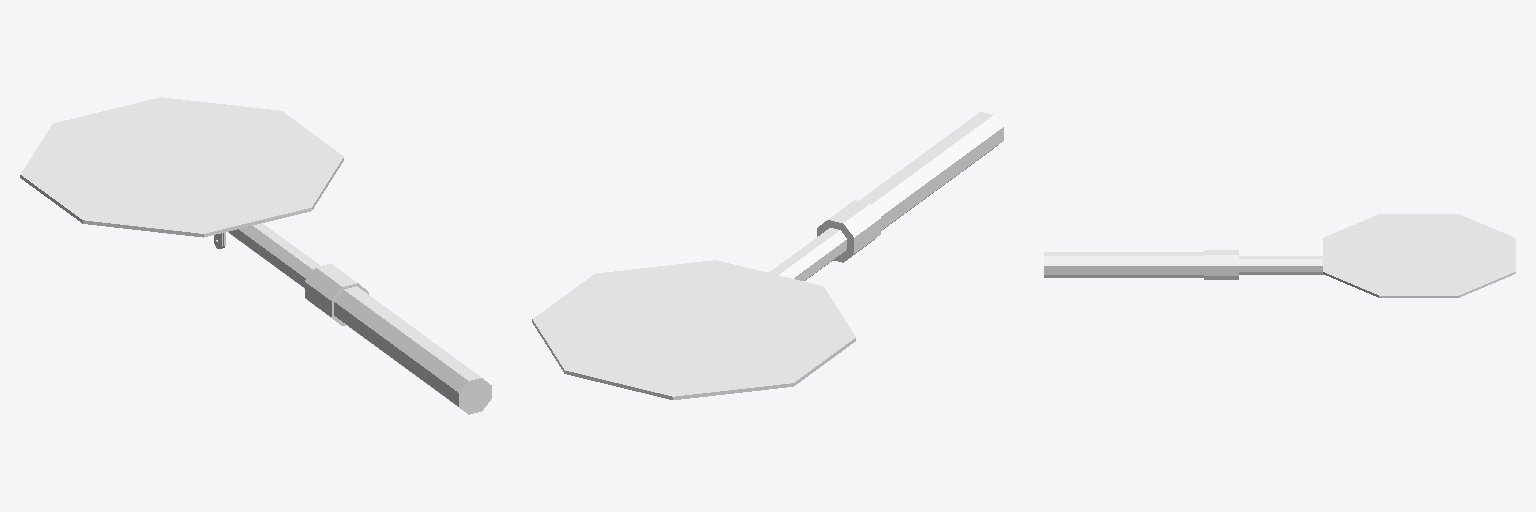
URDF robot description (stopsign):
<?xml version="1.0"?>
<robot name="stopsign">
  <link name="gear">
    <contact>
        <lateral_friction value="1"/>
    </contact>
    <inertial>
      <origin rpy="0 0 0" xyz="0 0 0"/>
      <mass value=".0"/>
      <inertia ixx="1" ixy="0" ixz="0" iyy="0" iyz="0" izz="0"/>
    </inertial>
    <visual>
      <origin rpy="0 0 0" xyz="0 0 0"/>
      <geometry>
        <mesh filename="stopsign.obj" scale="0.5 0.5 0.5"/>
      </geometry>
      <material name="blockmat">
        <color rgba="1 1 1 1"/>
      </material>
    </visual>
    <collision>
      <origin rpy="0 0 0" xyz="0 0 0"/>
      <geometry>
        <mesh filename="stopsign.obj" scale="0.5 0.5 0.5"/>
      </geometry>
    </collision>
  </link>
</robot>

--- Render facts (derived) ---
3 views of the same robot in one strip: view 1: azimuth 30°, elevation 25°; view 2: azimuth 150°, elevation 25°; view 3: azimuth 270°, elevation 25° (orthographic).
Robot: stopsign — 1 links, 0 joints (none); root link gear; default pose: every joint at zero.
Links seen in each view (by area): view 1: gear; view 2: gear; view 3: gear.
Link boxes in pixels (<box>): gear: <box>20,97,491,414</box>; gear: <box>532,112,1003,399</box>; gear: <box>1044,214,1515,297</box>.
Size in the robot's own frame: 0.9239 by 2.26 by 0.1973 metres.
1 mesh visuals loaded from 1 distinct referenced files (1 OBJ).